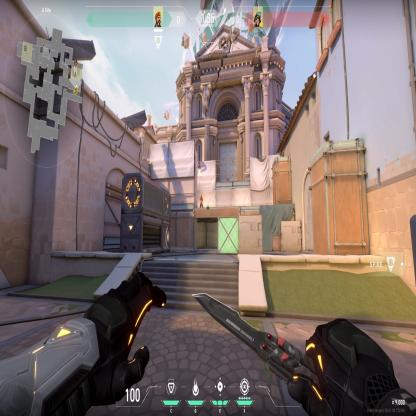enemy: (199, 194, 204, 208)
